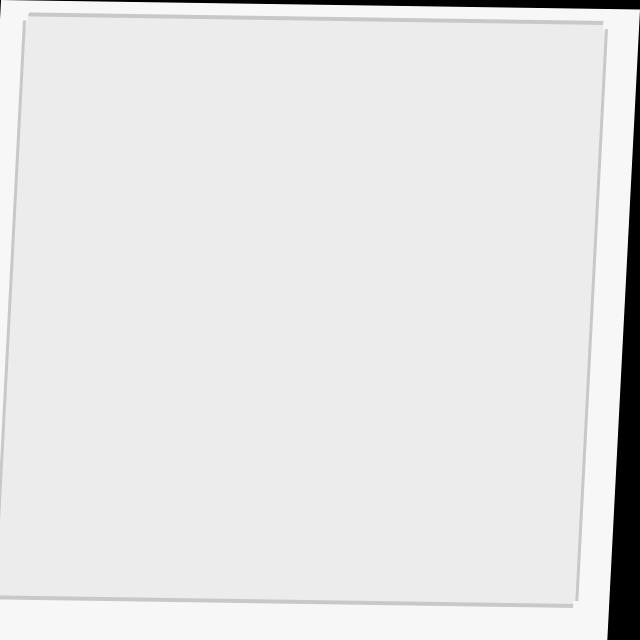qr_code: (2, 16, 604, 602)
